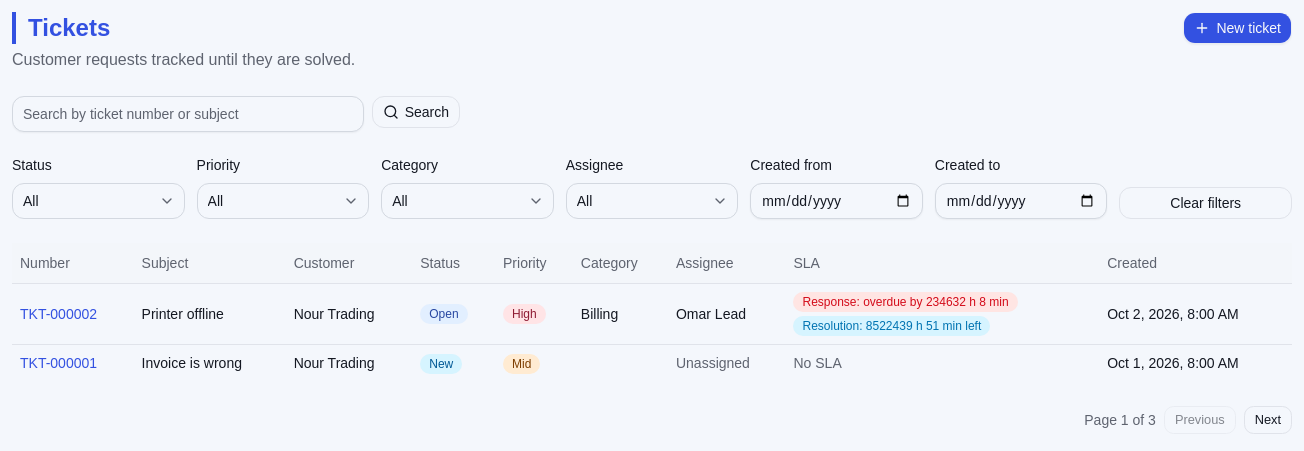
Test: TicketsPage — list and filters › pages through the results
Expected: the text "Page 1 of 3" is shown, top-left (1084, 410), bottom-right (1156, 430)
Expected: the button "Previous" is disabled, top-left (1164, 406), bottom-right (1236, 434)
Click the button "Next".
click(1268, 420)  # box top-left (1244, 406), bottom-right (1292, 434)
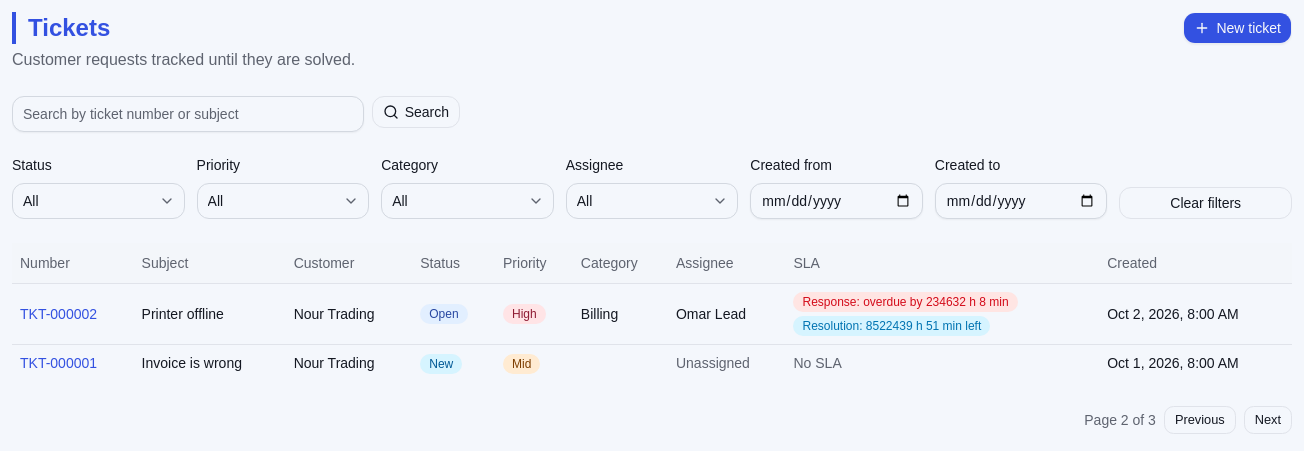
Now the text "Page 2 of 3" is shown, box top-left (1084, 410), bottom-right (1156, 430)
